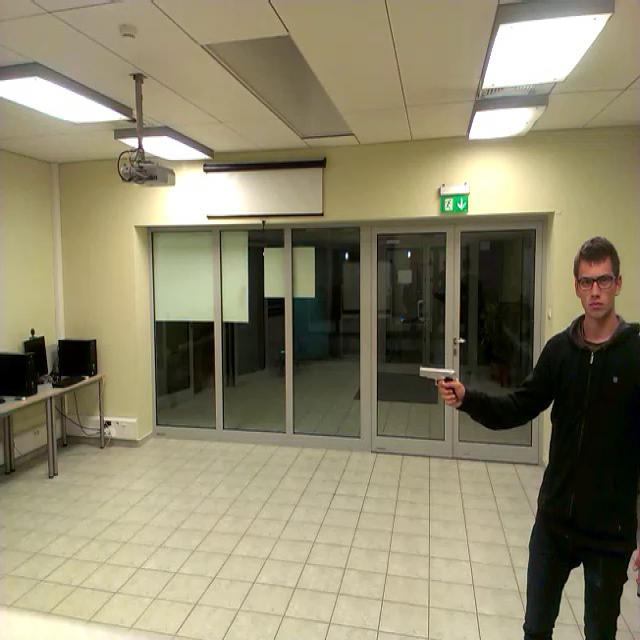Gun: (418, 365, 458, 402)
